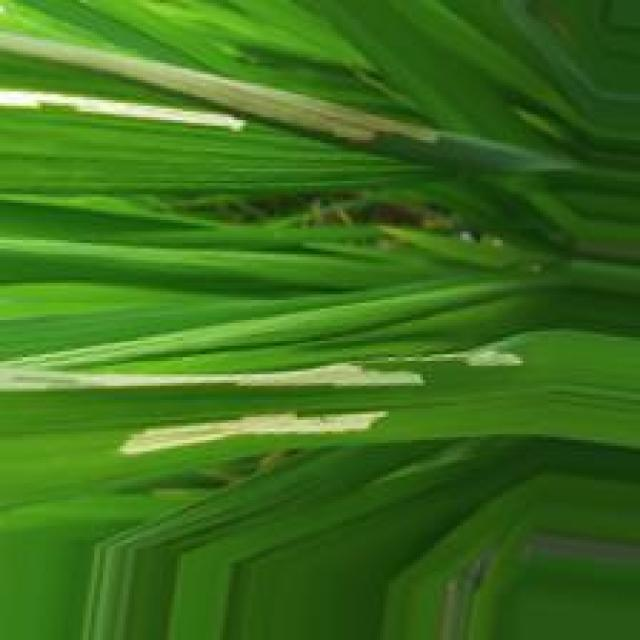Rice_Hispa: (0, 348, 533, 392), (116, 412, 394, 457)
